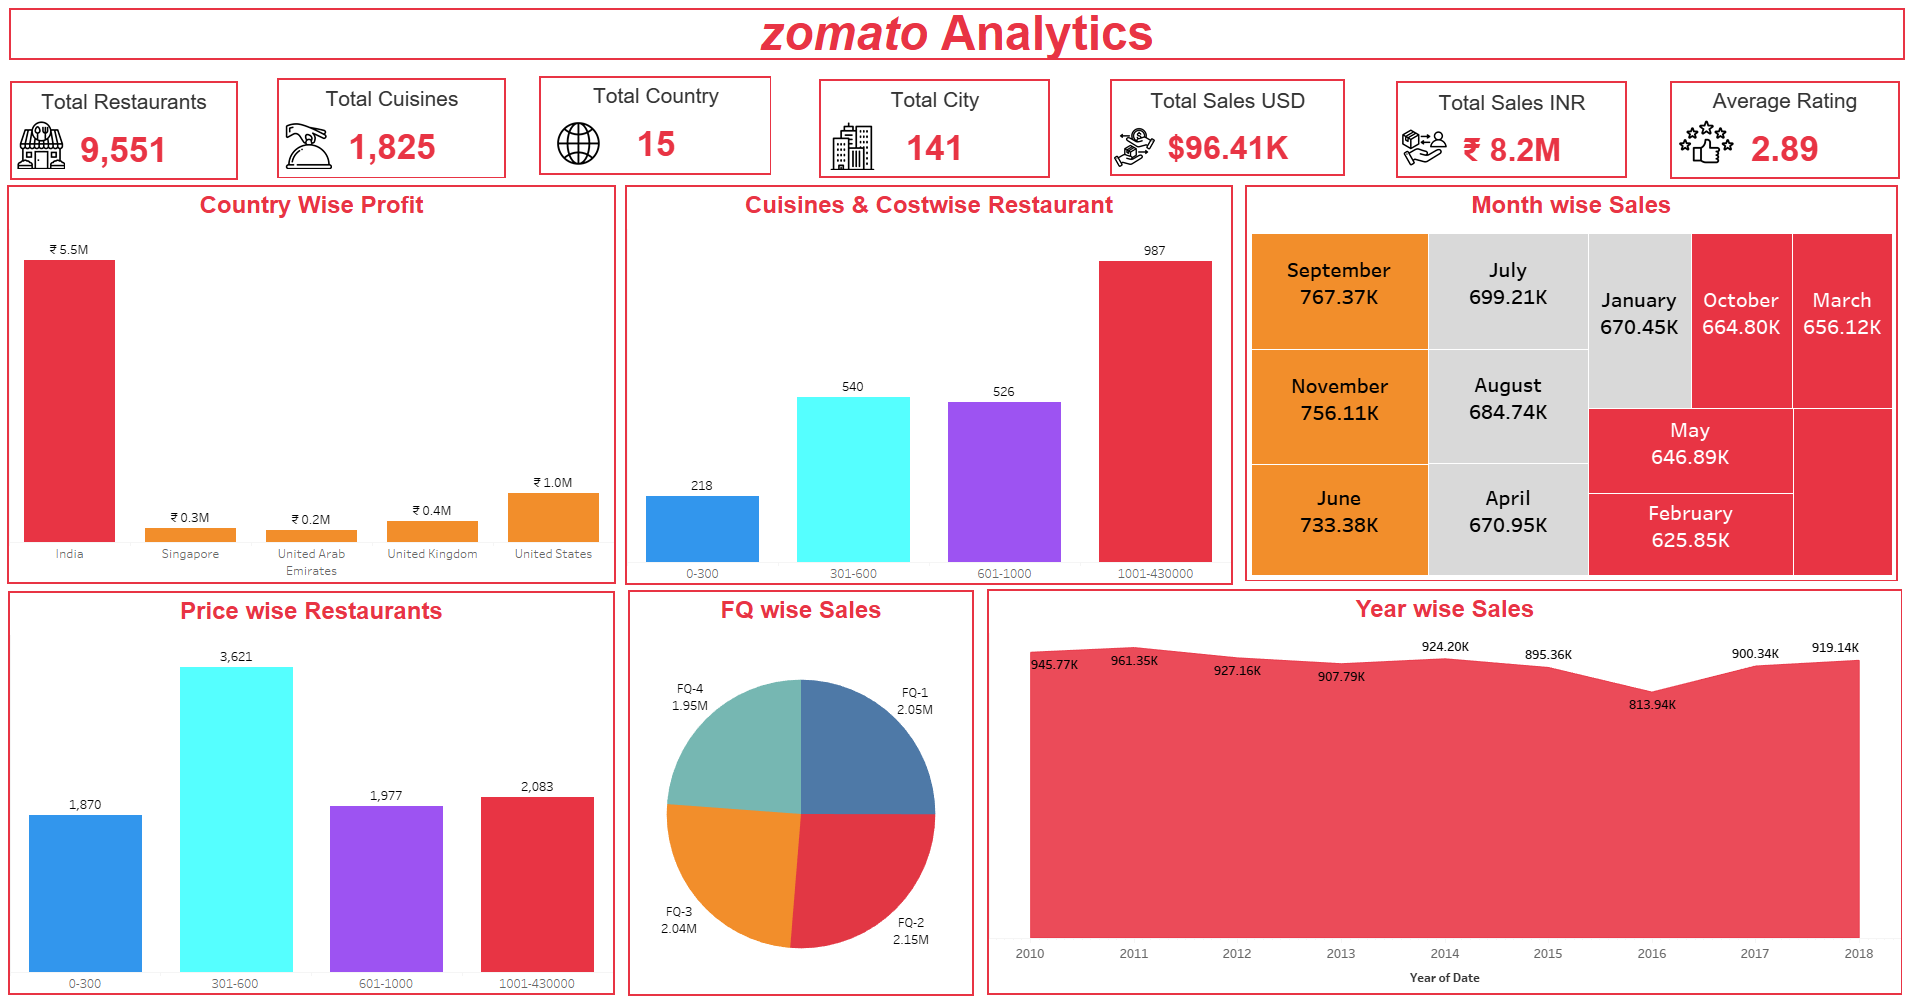

The page's visual inventory and layout, read from the dashboard file:
{"tool":"tableau","page":{"name":"Zomato Analytics Dashboard","canvas":[1000,1000],"units":"permille","ordinal":0},"visuals":[{"type":"title","box":[4.7,8.8,990.6,66.4]},{"type":"worksheet","title":"Total Country","mark":"Automatic","box":[282,79.7,121.1,98.5]},{"type":"worksheet","title":"Total Cuisines","mark":"Automatic","box":[145.7,80.8,119.4,99.6]},{"type":"worksheet","title":"Total City","mark":"Automatic","box":[428.3,81.9,120.5,98.5]},{"type":"worksheet","title":"Total Sales USD","mark":"Automatic","box":[579.9,81.9,122.3,96.2]},{"type":"worksheet","title":"Total Ṛestaurant","mark":"Automatic","box":[7,84.1,118.8,98.5]},{"type":"worksheet","title":"Total Sales INR","mark":"Automatic","box":[728.5,84.1,120.5,96.2]},{"type":"worksheet","title":"Average Rating","mark":"Automatic","box":[871.3,84.1,120,97.4]},{"type":"image","param":"Image/rating.png","box":[874.8,115,38,57.5]},{"type":"image","param":"Image/country.png","box":[286.7,116.2,32.2,59.7]},{"type":"image","param":"Image/restaurant icon.png","box":[10.5,123.9,25.2,48.7]},{"type":"image","param":"Image/cuisine.png","box":[149.8,125,33.9,46.5]},{"type":"image","param":"Image/city.png","box":[433,125,32.2,47.6]},{"type":"image","param":"Image/sales.png","box":[731.4,127.2,24,47.6]},{"type":"image","param":"Image/sales usd.png","box":[581,128.3,23.4,42]},{"type":"worksheet","title":"Country Wise Profit","mark":"Automatic","rows":["Calculation_1205557342155354118"],"cols":["Countryname"],"box":[5.3,187,317.1,394.9]},{"type":"worksheet","title":"Cuisines & Costwise Restaurant","mark":"Automatic","rows":["Cuisines"],"cols":["Calculation_1205557342155481095"],"box":[327.1,187,316.6,396]},{"type":"worksheet","title":"Month wise Sales","mark":"Automatic","box":[650.1,187,340,392.7]},{"type":"worksheet","title":"Year wise Sales","mark":"Area","rows":["Calculation_1205557342155354118"],"cols":["Calculation_1205557342151520256"],"box":[515.5,587.4,476.9,401.6]},{"type":"worksheet","title":"FQ wise Sales","mark":"Pie","box":[328.9,588.5,180.2,401.6]},{"type":"worksheet","title":"Price wise Restaurants","mark":"Automatic","rows":["RestaurantID"],"cols":["Calculation_1205557342155481095"],"box":[5.9,589.6,316,400.4]}]}

Visuals, with their boxes on the dashboard's canvas, which has no fixed pixel size, in thousandths of its width and height (x1, y1, x2, y2). These are canvas units, not pixel positions in the 1912x1005 screenshot, which may show the page scaled, cropped or inside an application window:
title: (left=5, top=9, right=995, bottom=75)
"Total Country" worksheet: (left=282, top=80, right=403, bottom=178)
"Total Cuisines" worksheet: (left=146, top=81, right=265, bottom=180)
"Total City" worksheet: (left=428, top=82, right=549, bottom=180)
"Total Sales USD" worksheet: (left=580, top=82, right=702, bottom=178)
"Total Ṛestaurant" worksheet: (left=7, top=84, right=126, bottom=183)
"Total Sales INR" worksheet: (left=728, top=84, right=849, bottom=180)
"Average Rating" worksheet: (left=871, top=84, right=991, bottom=182)
image: (left=875, top=115, right=913, bottom=172)
image: (left=287, top=116, right=319, bottom=176)
image: (left=10, top=124, right=36, bottom=173)
image: (left=150, top=125, right=184, bottom=172)
image: (left=433, top=125, right=465, bottom=173)
image: (left=731, top=127, right=755, bottom=175)
image: (left=581, top=128, right=604, bottom=170)
"Country Wise Profit" worksheet: (left=5, top=187, right=322, bottom=582)
"Cuisines & Costwise Restaurant" worksheet: (left=327, top=187, right=644, bottom=583)
"Month wise Sales" worksheet: (left=650, top=187, right=990, bottom=580)
"Year wise Sales" worksheet (Area marks): (left=516, top=587, right=992, bottom=989)
"FQ wise Sales" worksheet (Pie marks): (left=329, top=588, right=509, bottom=990)
"Price wise Restaurants" worksheet: (left=6, top=590, right=322, bottom=990)
